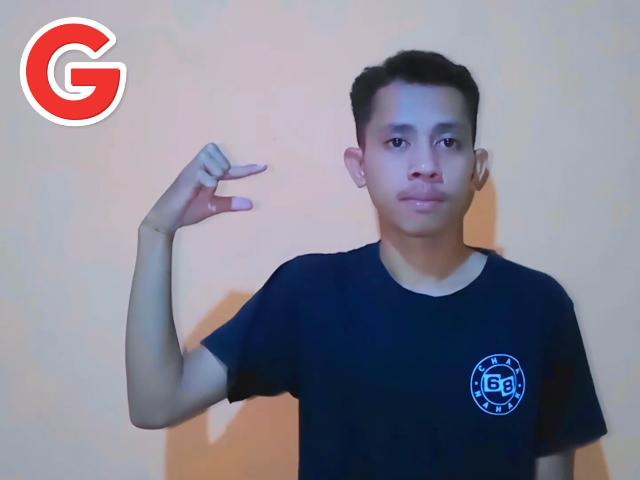G: (138, 140, 268, 234)
